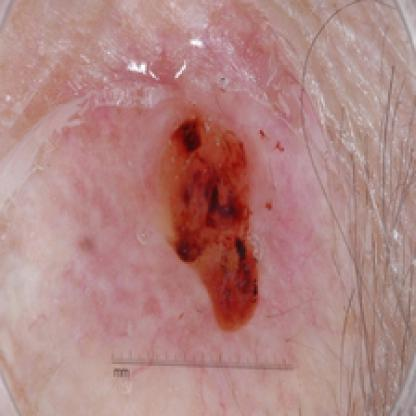malignant: (67, 60, 306, 336)
